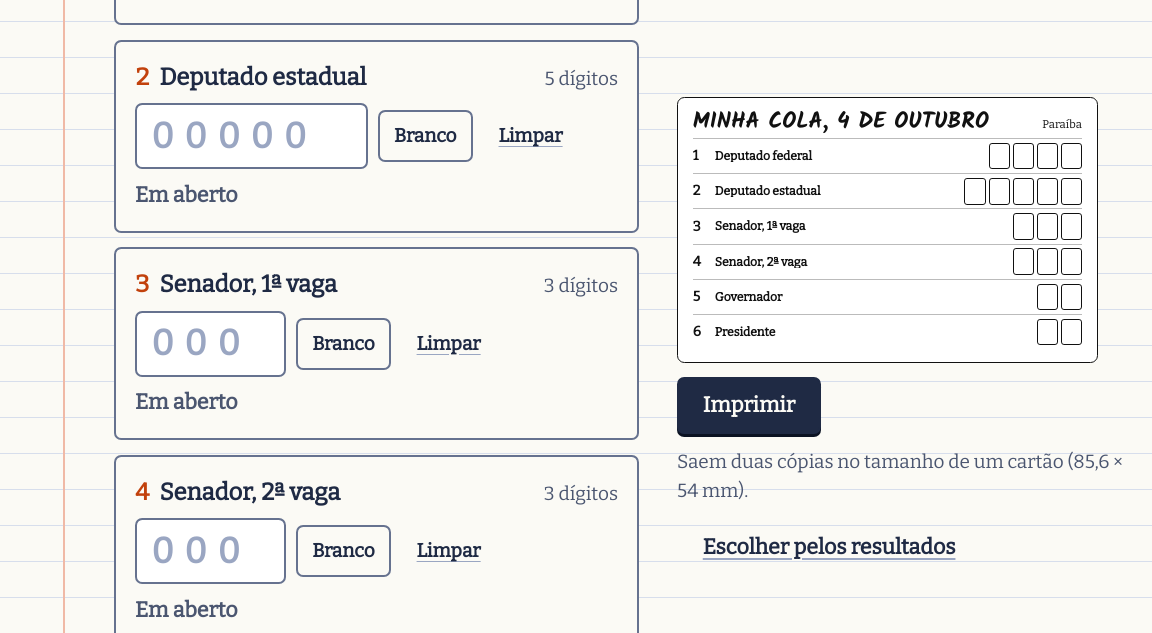
Test: cola manual entry › keeps digits only and warns when both senate slots hold the same number
(page scrolled)
Type "1a5b5" into the field labelled "3Senador, 1ª vaga". click: (211, 344)
box: [135,311,286,377]
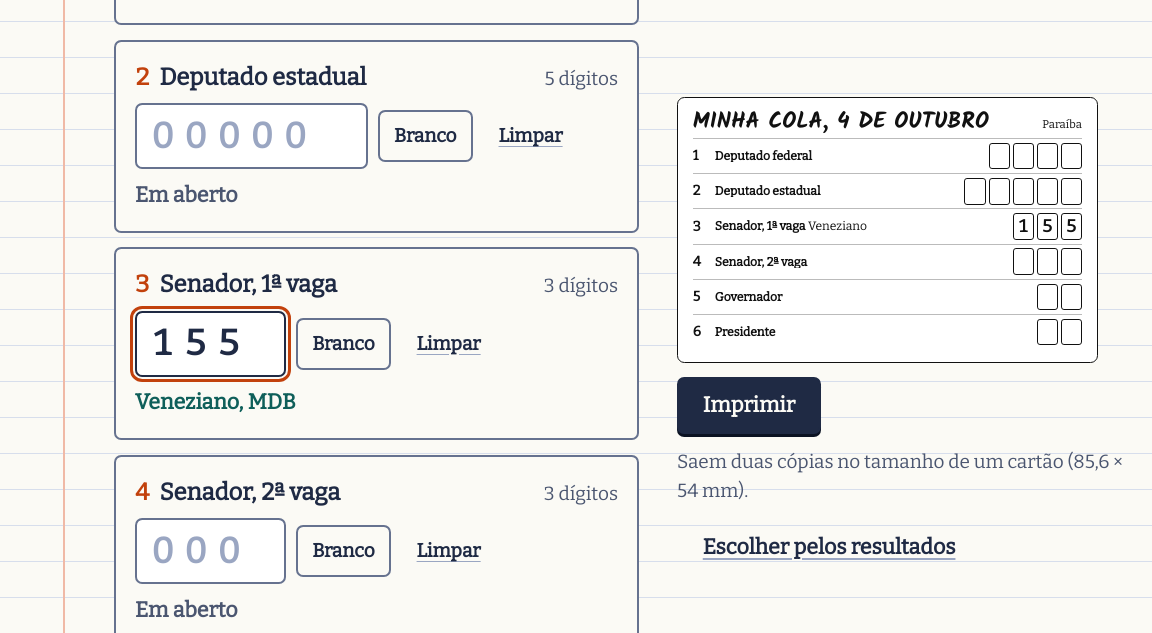
Type "155" into the field labelled "4Senador, 2ª vaga". click: (211, 551)
box: [135,518,286,584]
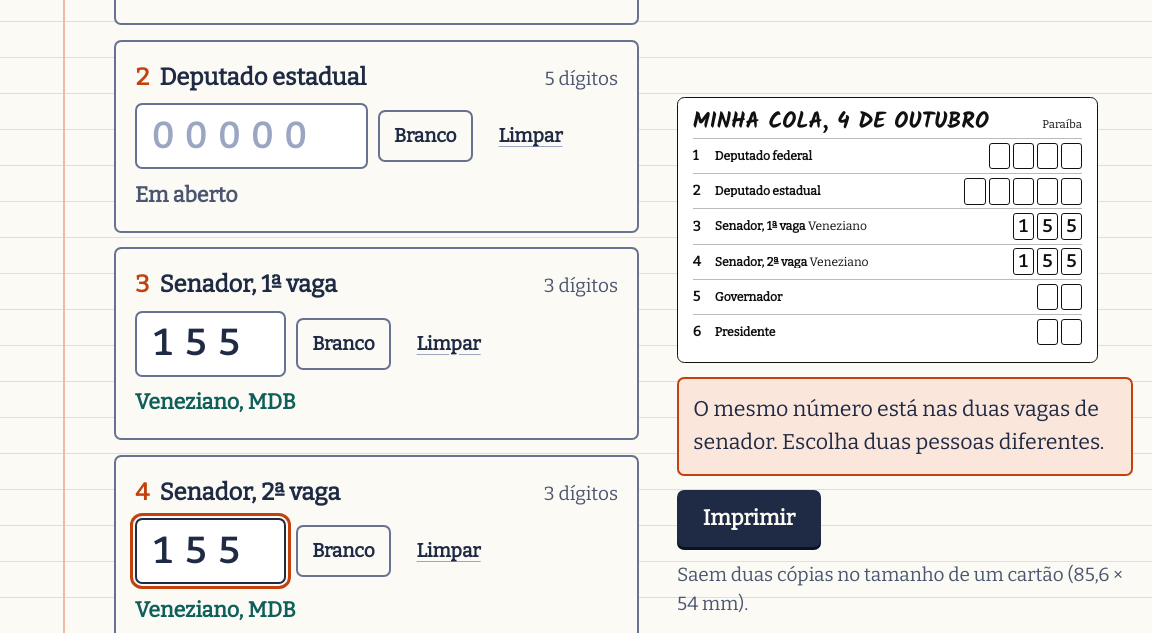
Now the text "O mesmo número está nas duas vagas" is shown, box [693,396,1104,455]
